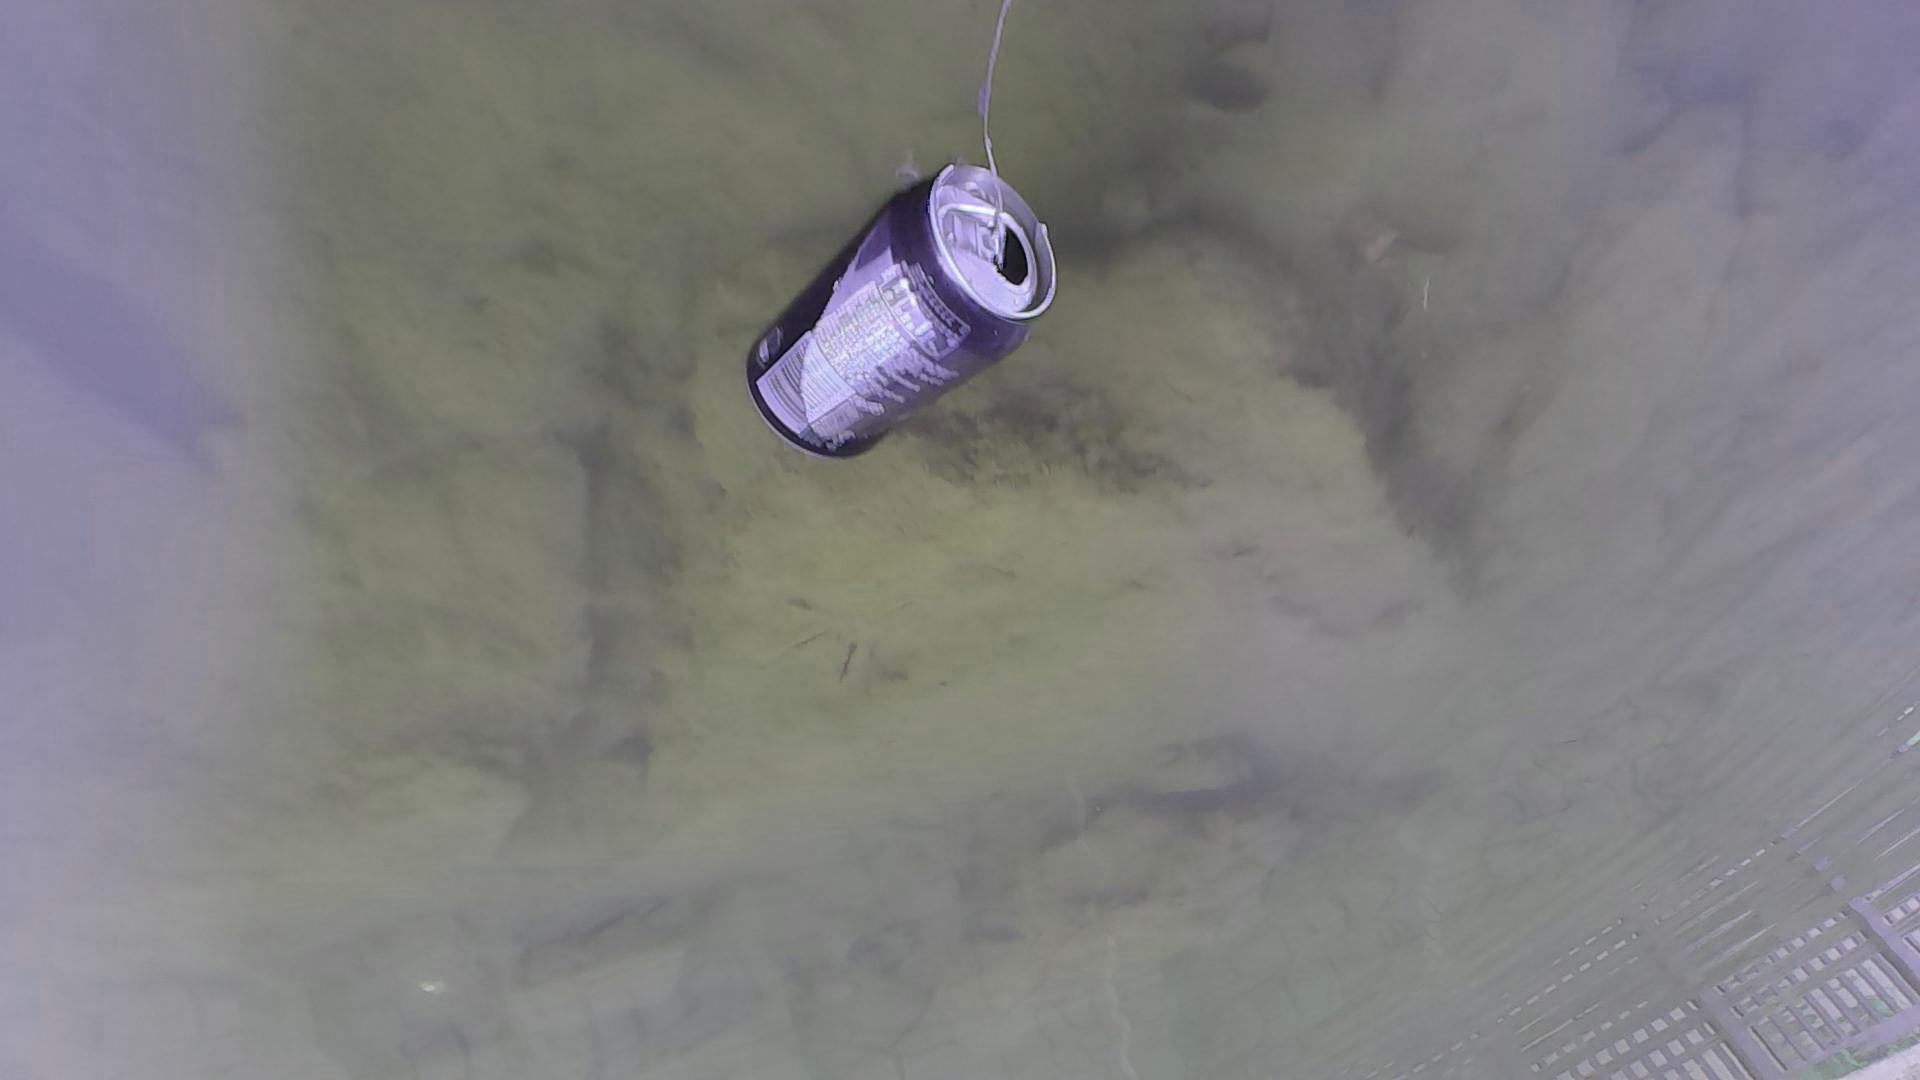Metal: (738, 161, 1060, 460)
